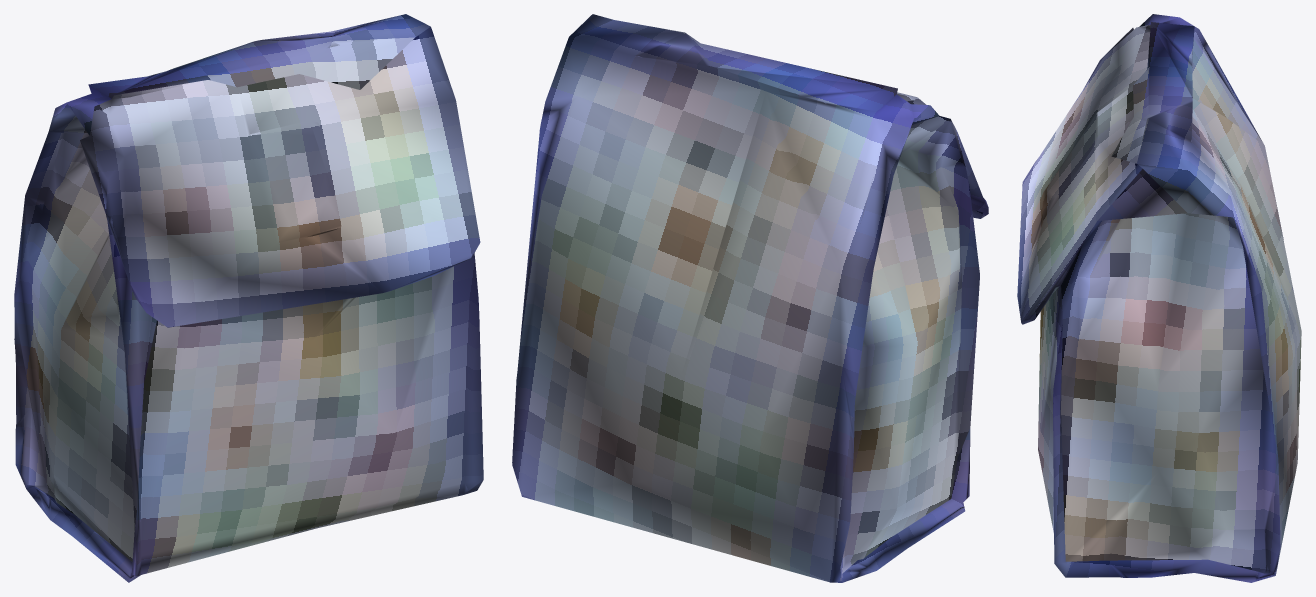
Rendered from Olive_Kids_Game_On_Munch_n_Lunch-low.glb.
3 renders of one model, left to right at view 1: azimuth 30°, elevation 25°; view 2: azimuth 150°, elevation 25°; view 3: azimuth 270°, elevation 25°, orthographic. The views are drawn at different scales.
Visible parts, largest first — view 1: Olive_Kids_Game_On_Munch_n_Lunch; view 2: Olive_Kids_Game_On_Munch_n_Lunch; view 3: Olive_Kids_Game_On_Munch_n_Lunch.
Part boxes in pixels (left/top/right/bottom): Olive_Kids_Game_On_Munch_n_Lunch: left=14, top=14, right=483, bottom=582; Olive_Kids_Game_On_Munch_n_Lunch: left=512, top=14, right=988, bottom=582; Olive_Kids_Game_On_Munch_n_Lunch: left=1017, top=14, right=1301, bottom=582.
Size of the model in its own units: 0.2268 by 0.2663 by 0.1619.
Materials: 1 (1 with a texture image).
